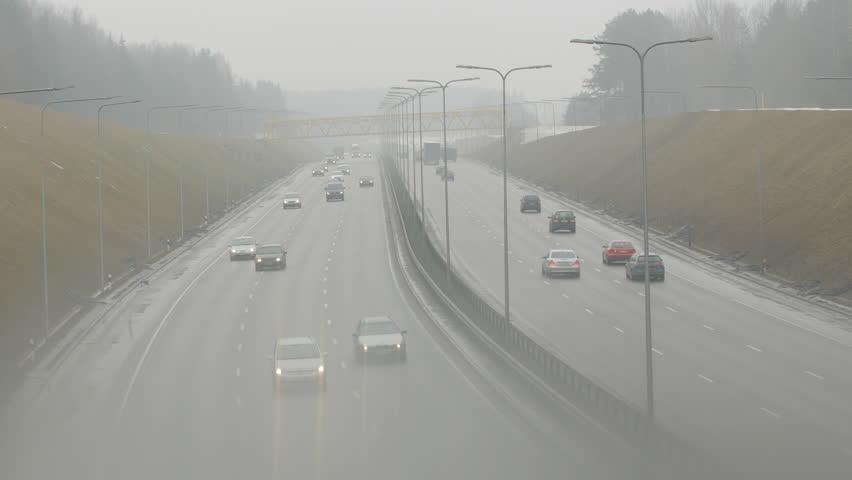airplane: (311, 159, 328, 176)
bench: (274, 335, 326, 386)
bicycle: (161, 236, 180, 251)
boat: (311, 159, 328, 176)
bus: (352, 315, 407, 357), (254, 243, 286, 271), (546, 209, 576, 236), (324, 175, 346, 201), (281, 193, 302, 209), (310, 160, 328, 176), (357, 175, 375, 187)
car: (284, 326, 383, 385), (334, 313, 406, 382), (274, 335, 326, 384), (352, 315, 407, 357), (550, 214, 580, 258), (542, 248, 581, 280), (625, 252, 666, 282), (605, 244, 648, 271), (242, 239, 282, 267), (357, 315, 401, 340), (104, 256, 140, 284), (324, 175, 363, 200), (602, 239, 638, 265), (319, 163, 344, 200), (255, 243, 287, 271), (321, 160, 349, 187), (229, 235, 257, 261), (548, 210, 576, 233), (264, 239, 287, 262), (326, 171, 348, 195), (545, 246, 575, 263), (324, 177, 345, 201), (541, 250, 559, 277), (231, 231, 254, 251), (331, 176, 351, 198), (665, 222, 692, 238), (521, 193, 542, 213), (336, 168, 351, 193), (316, 158, 338, 175), (323, 159, 346, 175), (301, 162, 324, 178), (329, 167, 349, 184), (281, 193, 302, 209), (538, 252, 551, 277), (310, 160, 328, 176), (331, 165, 351, 177), (357, 175, 375, 187)
chair: (274, 335, 326, 386)
kite: (625, 251, 665, 280)
motorcycle: (625, 252, 666, 282), (254, 241, 287, 270), (229, 235, 257, 262)
parking meter: (625, 253, 665, 281), (521, 193, 542, 213)
person: (275, 335, 326, 386), (548, 210, 576, 234), (325, 178, 346, 202), (196, 213, 210, 233), (759, 254, 771, 274)
sports ball: (624, 252, 665, 281)
suitcase: (521, 193, 542, 213)
toaster: (520, 194, 541, 213), (281, 193, 302, 209)
traffic light: (520, 194, 542, 213)
truck: (274, 335, 325, 386), (352, 315, 407, 357), (543, 248, 582, 280), (625, 252, 665, 281), (242, 239, 282, 267), (602, 239, 638, 264), (255, 243, 287, 271), (229, 236, 257, 260), (548, 210, 576, 233), (326, 171, 348, 195), (313, 157, 340, 176), (324, 178, 345, 202), (520, 193, 541, 213), (282, 192, 302, 209), (329, 167, 349, 184), (311, 159, 328, 176), (357, 175, 375, 187)
